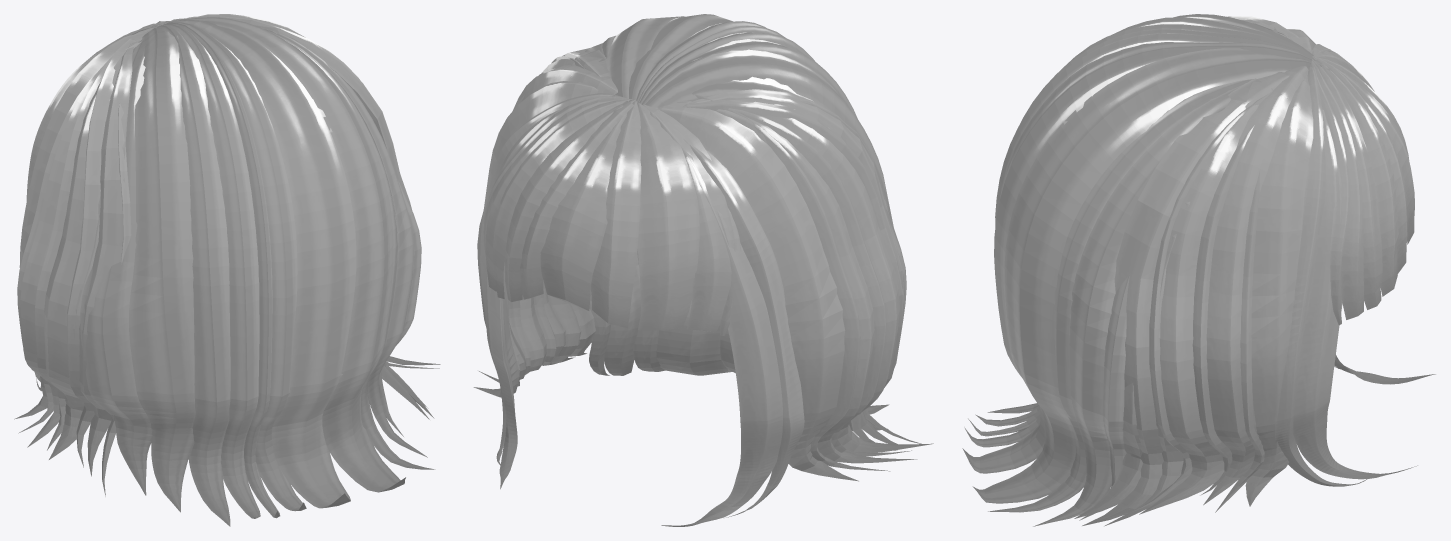
Rendered from hair-feminine-bluntBob.glb.
3 views of the same model, side by side, from view 1: azimuth 30°, elevation 25°; view 2: azimuth 150°, elevation 25°; view 3: azimuth 270°, elevation 25° (orthographic). The views are drawn at different scales.
Visible parts, largest first — view 1: hair-bluntBob; view 2: hair-bluntBob; view 3: hair-bluntBob.
Boxes of the visible parts, left/top/right/bottom form: hair-bluntBob: left=14, top=14, right=440, bottom=526; hair-bluntBob: left=473, top=14, right=933, bottom=526; hair-bluntBob: left=962, top=14, right=1435, bottom=526.
Size of the model in its own units: 0.2889 by 0.274 by 0.2785.
Materials: 3 (3 with a texture image).
